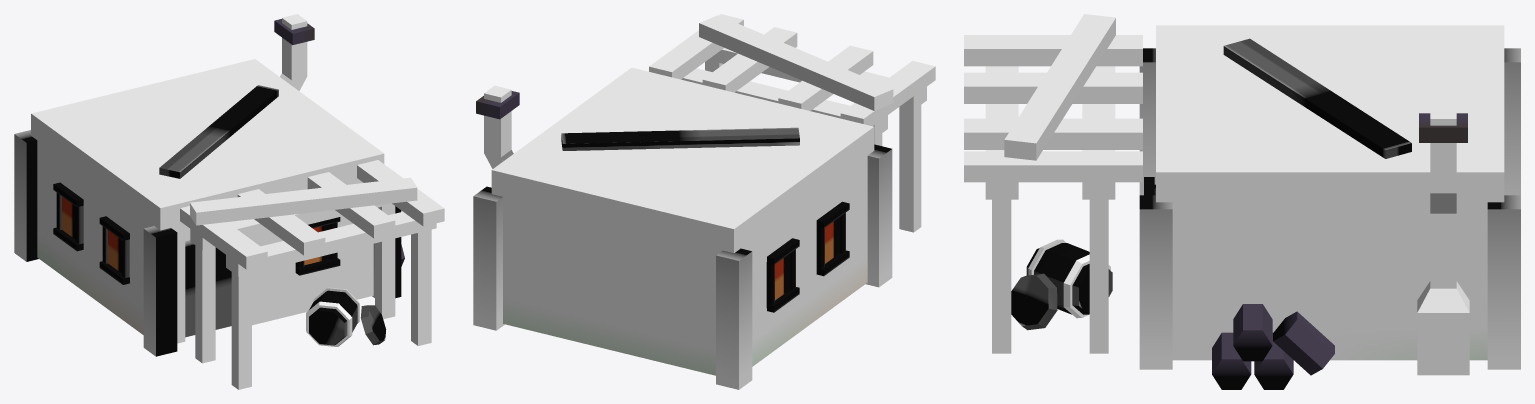
The model's file is HousePhase02.fbx.
The picture shows the model from 3 angles, left to right: view 1: azimuth 30°, elevation 25°; view 2: azimuth 150°, elevation 25°; view 3: azimuth 270°, elevation 25°; orthographic projection. The views are drawn at different scales.
Parts seen in each view (by area): view 1: HousePhase02; view 2: HousePhase02; view 3: HousePhase02.
Part boxes in pixels (x1,y1,x2,y2): HousePhase02: [14, 14, 444, 389]; HousePhase02: [473, 14, 935, 389]; HousePhase02: [964, 14, 1520, 389].
Bounding box in the file's own units: 185 × 125 × 240.
